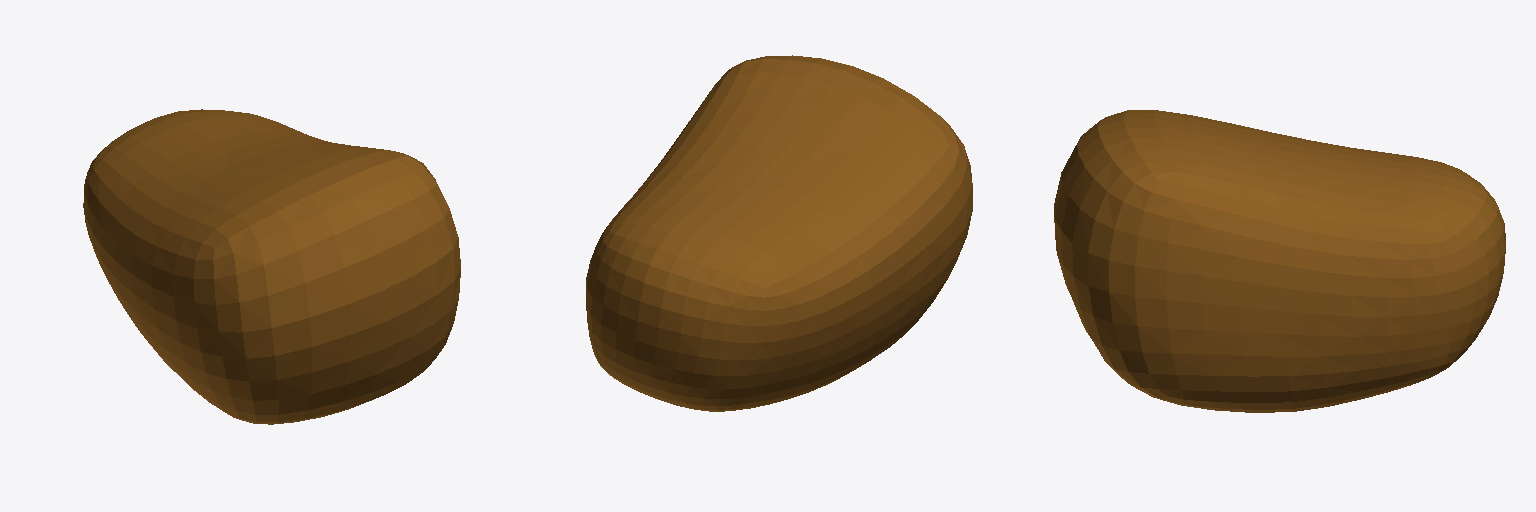
File: fing3_3.obj
The picture shows the model from 3 angles: view 1: azimuth 30°, elevation 25°; view 2: azimuth 150°, elevation 25°; view 3: azimuth 270°, elevation 25°; orthographic projection.
Parts seen in each view (by area): view 1: f3o3; view 2: f3o3; view 3: f3o3.
Part boxes in pixels (x1,y1,x2,y2): f3o3: (83,109,460,424); f3o3: (586,55,972,411); f3o3: (1054,110,1505,412).
Bounding box in the file's own units: 0.6954 × 0.655 × 1.02.